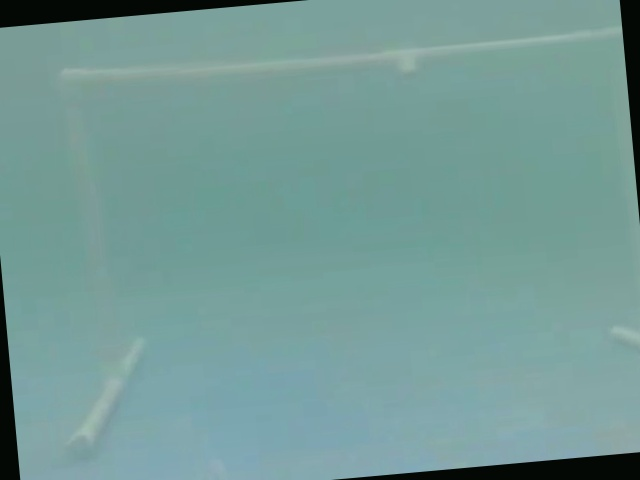gate: (24, 42, 631, 434)
